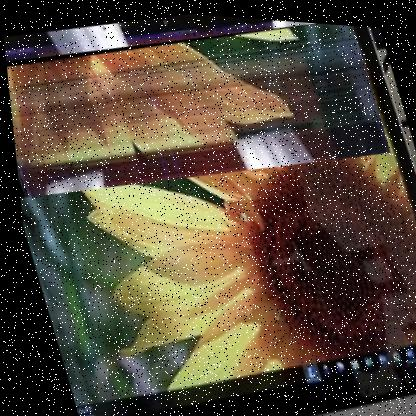lines: (0, 0, 394, 221)
